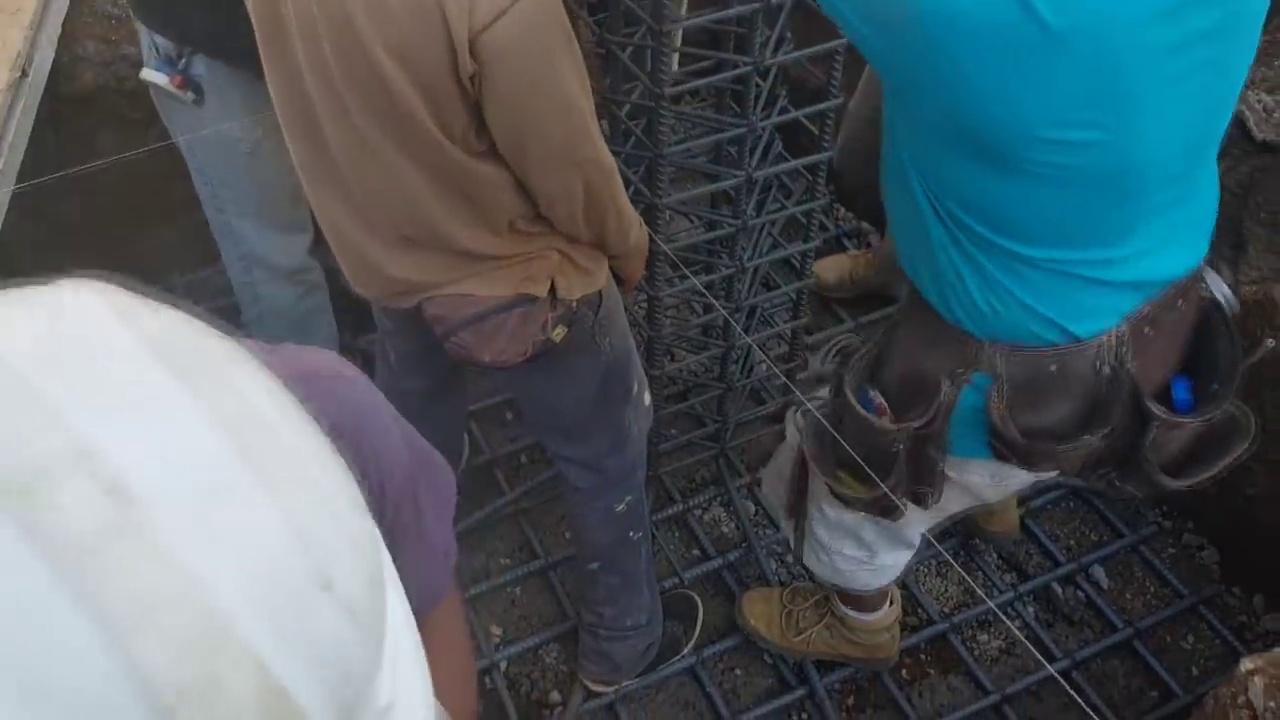person: (735, 0, 1277, 661), (260, 0, 712, 680), (0, 266, 477, 720), (104, 0, 354, 392)
